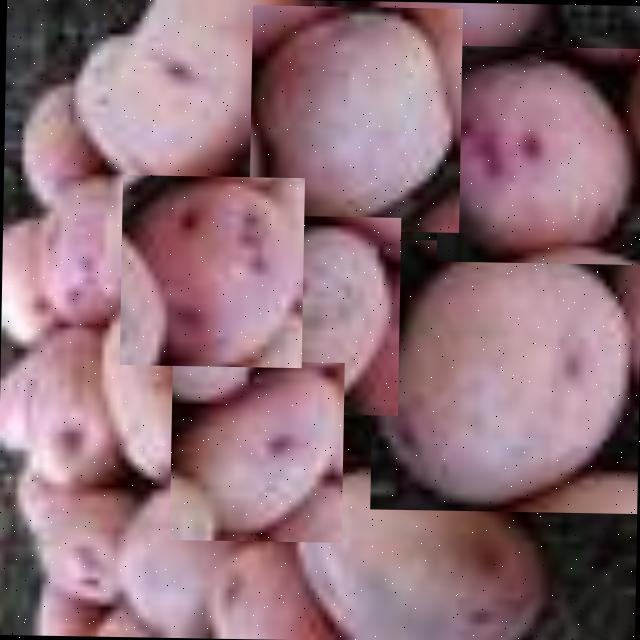Defected potato: (368, 238, 640, 513), (248, 4, 462, 232), (435, 45, 640, 265), (119, 175, 304, 368), (168, 360, 343, 542), (245, 214, 400, 416)
